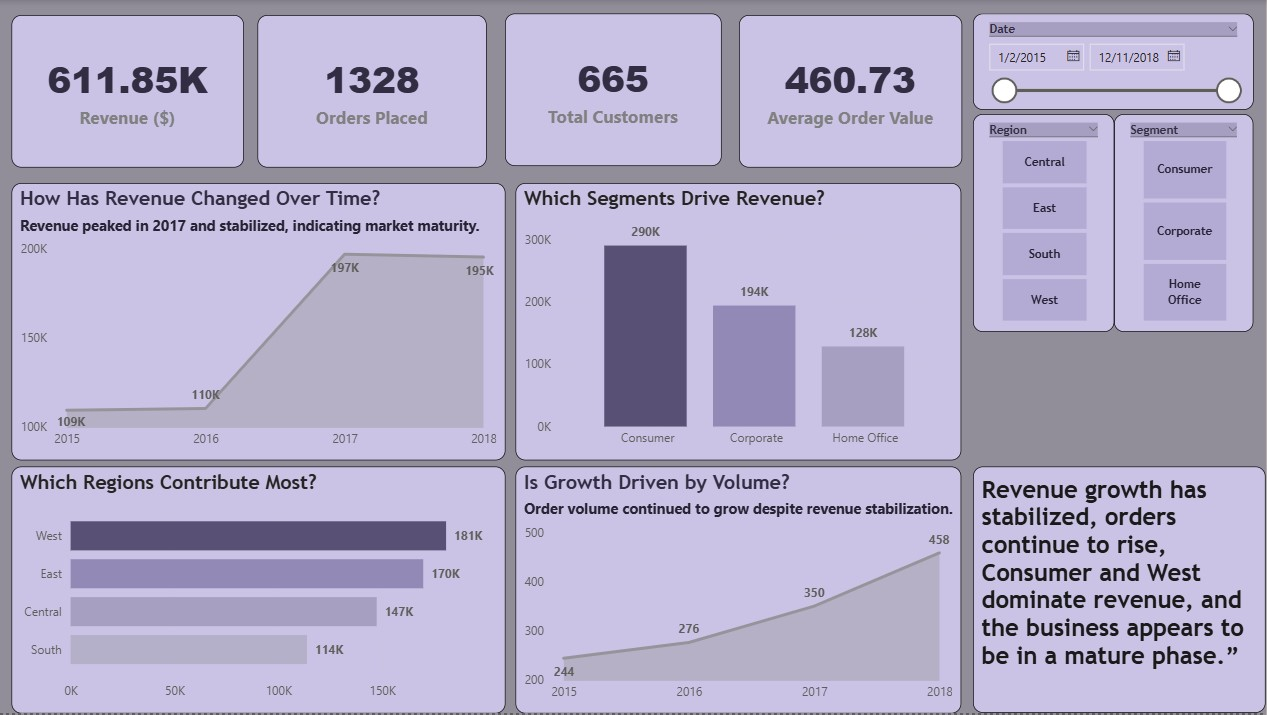

The page's visual inventory and layout, read from the dashboard file:
{"tool":"powerbi","page":{"name":"Executive Overview","canvas":[1280,720],"ordinal":0},"visuals":[{"type":"card","fields":{"Values":["superstore.Total Customers"]},"box":[511.8,13,218.6,153.9],"z":0},{"type":"card","fields":{"Values":["superstore.Total Orders"]},"box":[262.4,14.6,231.6,153.9],"z":1000},{"type":"card","fields":{"Values":["superstore.Average Order Value"]},"box":[748.2,14.6,225.1,153.9],"z":2000},{"type":"card","fields":{"Values":["superstore.Total Sales"]},"box":[13,14.6,234.8,153.9],"z":3000},{"type":"lineChart","title":"How Has Revenue Changed Over Time?","fields":{"Category":["superstore.order_date.Variation.Date Hierarchy.Year","superstore.order_date.Variation.Date Hierarchy.Month"],"Y":["superstore.Revenue by Month"]},"box":[13,184.6,498.8,280.2],"z":4000},{"type":"lineChart","title":"Is Growth Driven by Volume?","fields":{"Category":["superstore.order_date.Variation.Date Hierarchy.Year","superstore.order_date.Variation.Date Hierarchy.Month"],"Y":["superstore.Orders Trend"]},"box":[523.1,471.3,450.2,249.4],"z":5000},{"type":"columnChart","title":"Which Segments Drive Revenue?","fields":{"Category":["superstore.segment"],"Y":["superstore.Revenue by Segment"]},"box":[523.1,184.6,450.2,280.2],"z":6000},{"type":"clusteredBarChart","title":"Which Regions Contribute Most?","fields":{"Category":["superstore.region"],"Y":["superstore.Revenue by Region"]},"box":[13,471.3,498.8,249.4],"z":7000},{"type":"slicer","fields":{"Values":["superstore.order_date"]},"box":[984.7,13,283.4,97.2],"z":8000},{"type":"slicer","fields":{"Values":["superstore.segment"]},"box":[1127.2,115,140.9,220.3],"z":9000},{"type":"slicer","fields":{"Values":["superstore.region"]},"box":[984.7,115,142.5,220.3],"z":10000},{"type":"textbox","box":[984.1,471.3,295.4,248.9],"z":11000}]}

Visuals, with their boxes in screenshot pixels (x1, y1, x2, y2), scaled from the page's 1280x720 canvas onto the 1267x715 screenshot:
card - superstore.Total Customers: pyautogui.locateOnScreen(507, 13, 723, 166)
card - superstore.Total Orders: pyautogui.locateOnScreen(260, 14, 489, 167)
card - superstore.Average Order Value: pyautogui.locateOnScreen(741, 14, 963, 167)
card - superstore.Total Sales: pyautogui.locateOnScreen(13, 14, 245, 167)
"How Has Revenue Changed Over Time?" lineChart: pyautogui.locateOnScreen(13, 183, 507, 462)
"Is Growth Driven by Volume?" lineChart: pyautogui.locateOnScreen(518, 468, 963, 714)
"Which Segments Drive Revenue?" columnChart: pyautogui.locateOnScreen(518, 183, 963, 462)
"Which Regions Contribute Most?" clusteredBarChart: pyautogui.locateOnScreen(13, 468, 507, 714)
slicer - superstore.order_date: pyautogui.locateOnScreen(975, 13, 1255, 109)
slicer - superstore.segment: pyautogui.locateOnScreen(1116, 114, 1255, 333)
slicer - superstore.region: pyautogui.locateOnScreen(975, 114, 1116, 333)
textbox: pyautogui.locateOnScreen(974, 468, 1266, 714)
